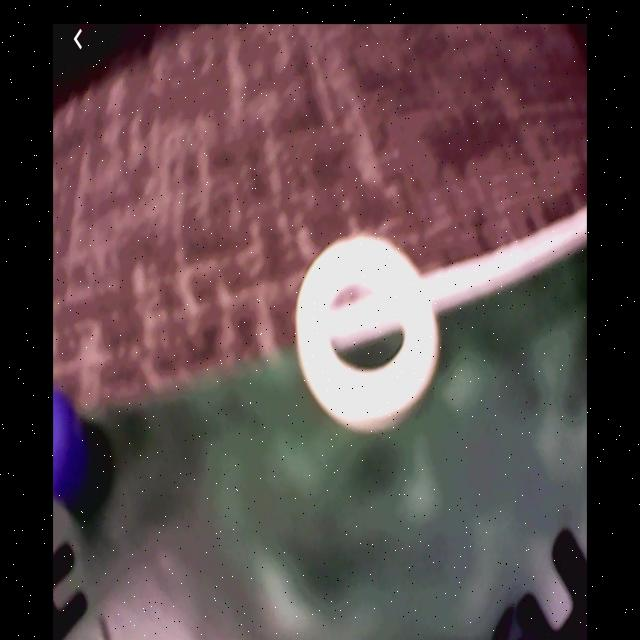ball: (53, 384, 84, 510)
